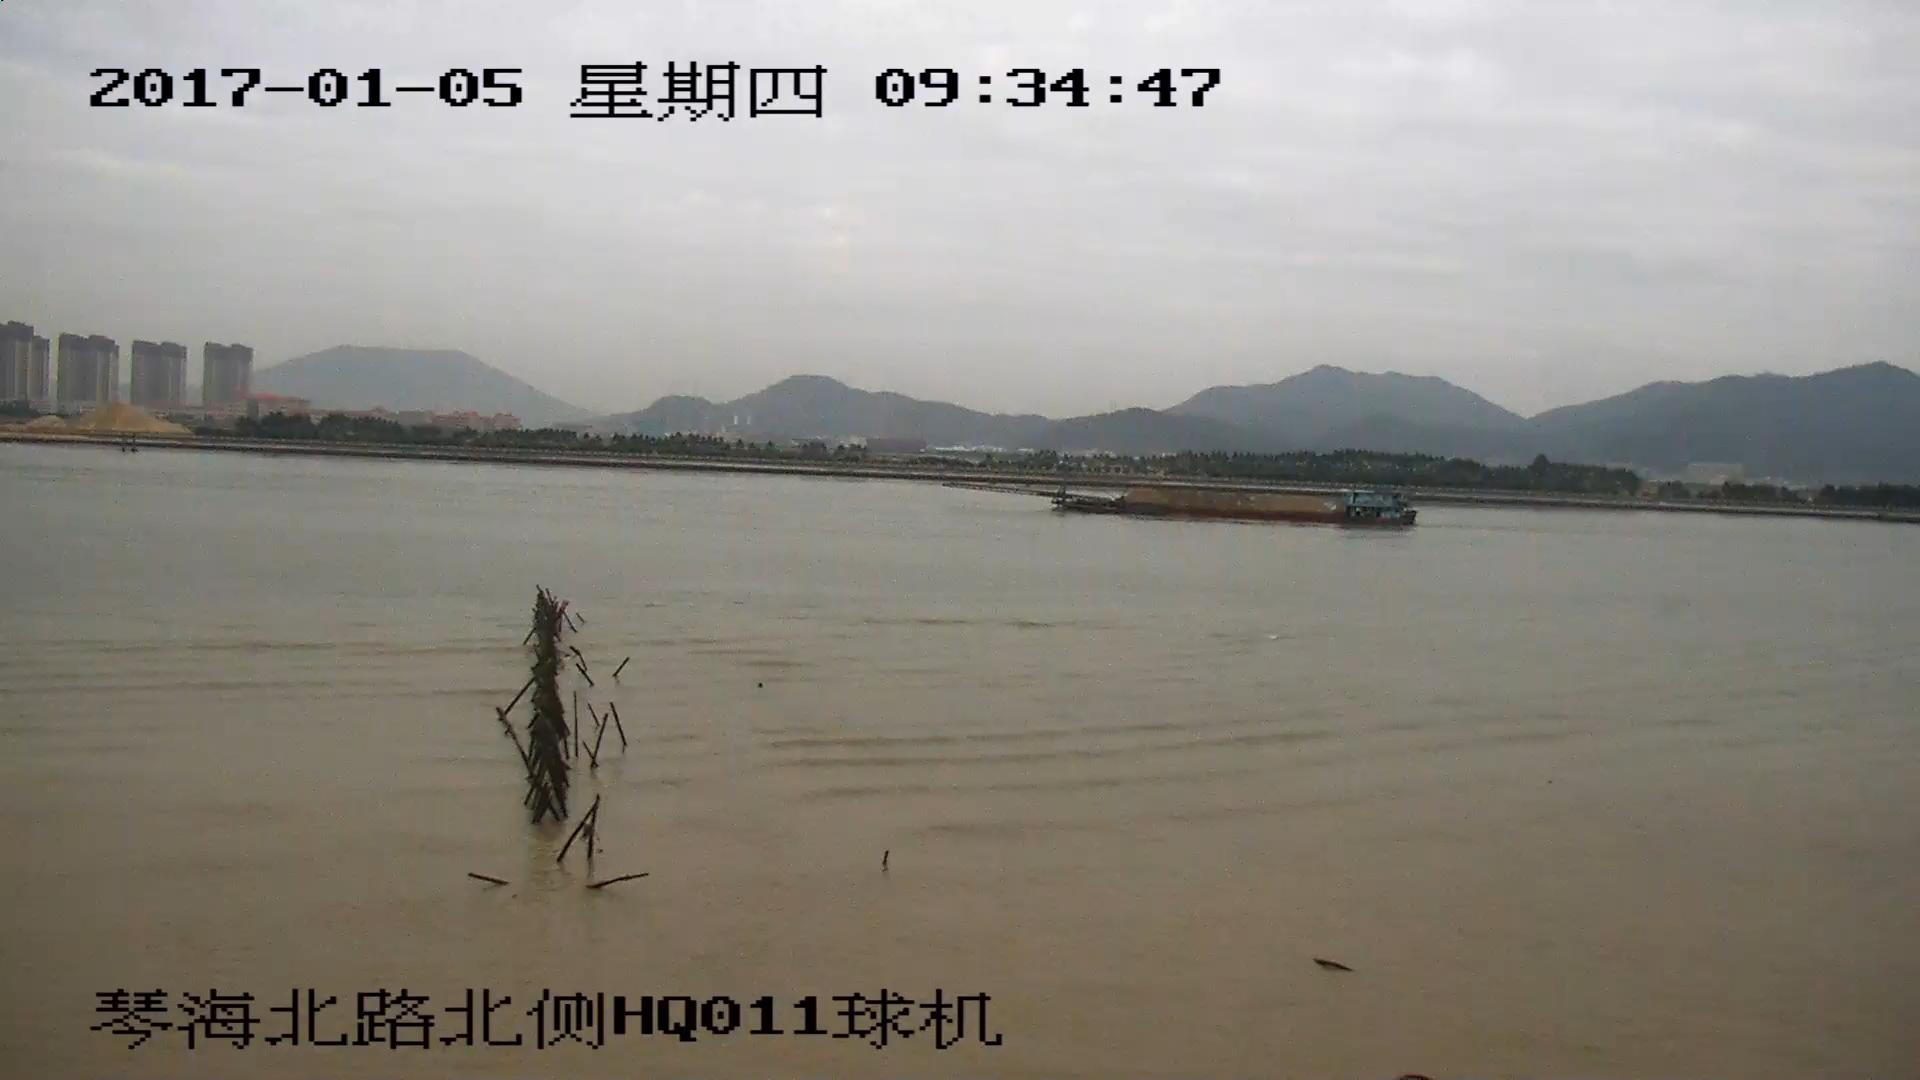ore carrier: (948, 472, 1408, 532)
